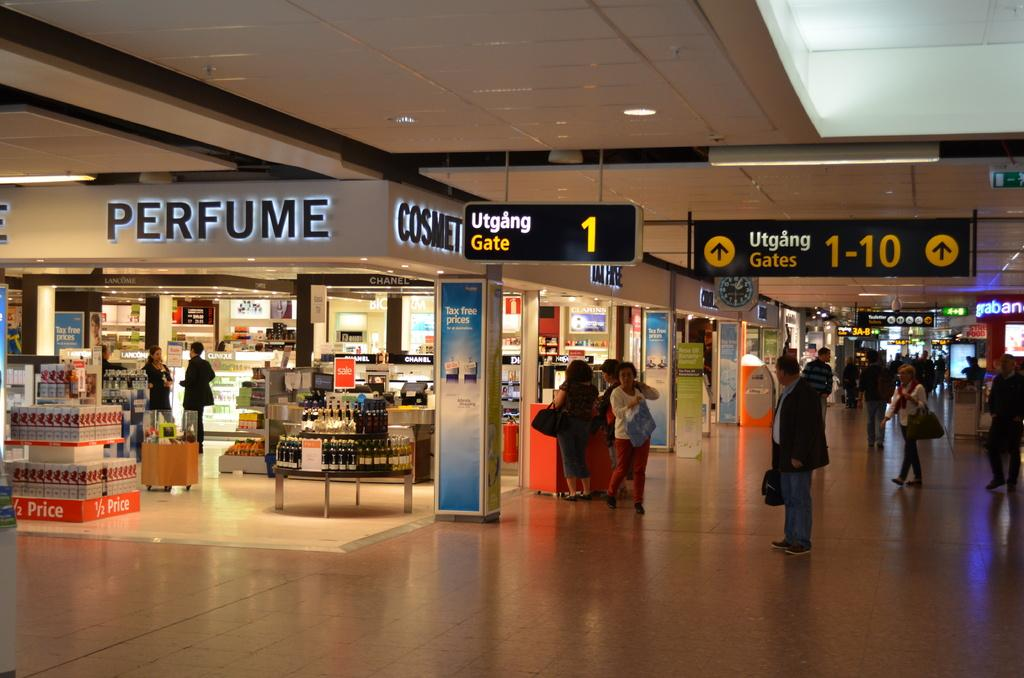Luggage-and-bags: (762, 462, 797, 507), (630, 397, 653, 452), (915, 402, 948, 435), (535, 398, 559, 436)
